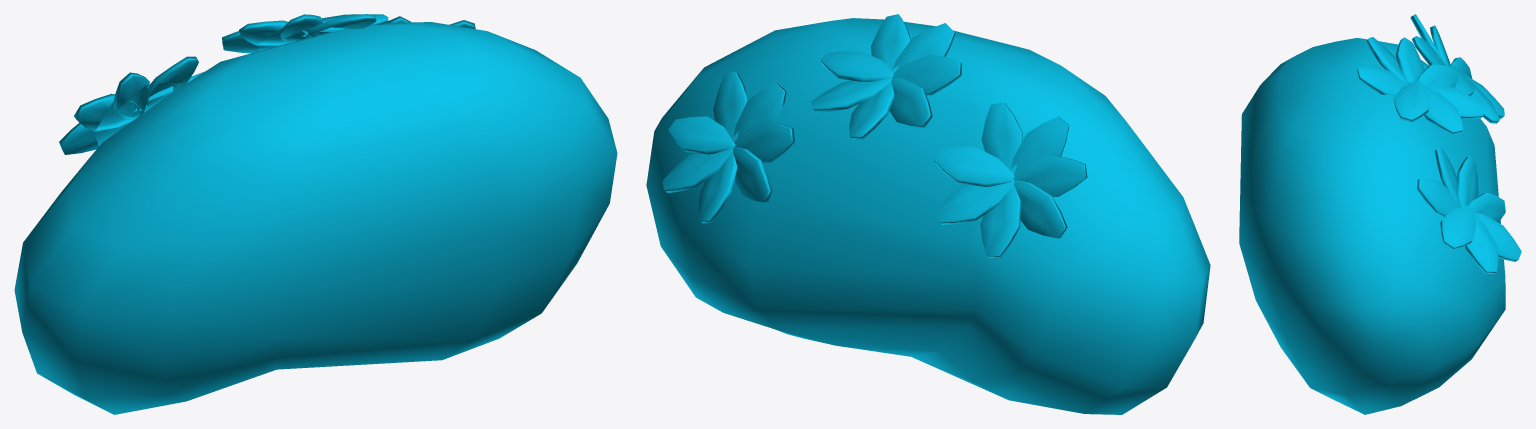
The model's file is Bush_1.fbx.
3 views of the same model, side by side, from view 1: azimuth 30°, elevation 25°; view 2: azimuth 150°, elevation 25°; view 3: azimuth 270°, elevation 25° (orthographic). The views are drawn at different scales.
Parts seen in each view (by area): view 1: bush_1_low; view 2: bush_1_low; view 3: bush_1_low.
Boxes of the visible parts, left/top/right/bottom form: bush_1_low: left=14, top=14, right=617, bottom=414; bush_1_low: left=646, top=14, right=1210, bottom=414; bush_1_low: left=1239, top=14, right=1521, bottom=414.
Size of the model in its own units: 0.5731 by 0.3382 by 0.2933.
